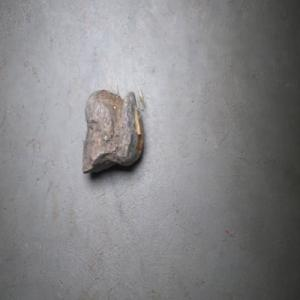Rock: (81, 85, 144, 173)
